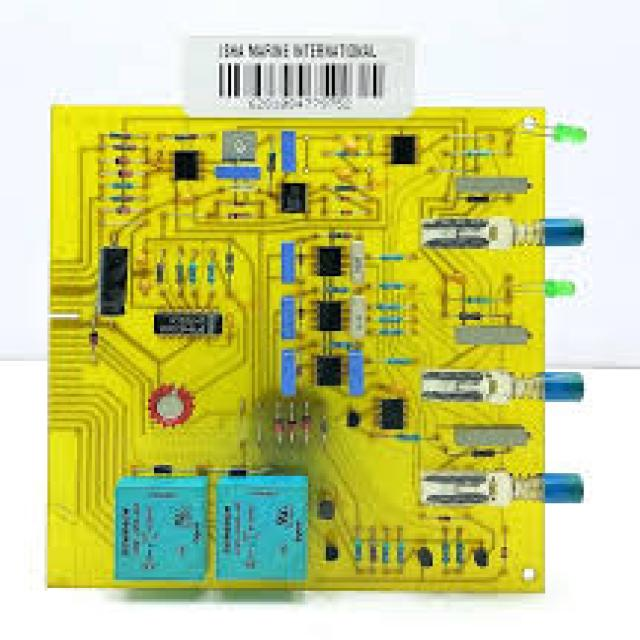pcb: (44, 99, 584, 594), (210, 470, 308, 588), (110, 468, 208, 582), (151, 309, 222, 334)
